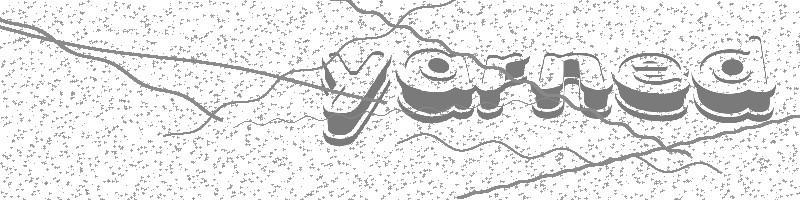a: (396, 46, 474, 127)
d: (690, 34, 776, 127)
e: (614, 51, 692, 123)
n: (533, 47, 615, 124)
r: (475, 49, 529, 121)
y: (315, 50, 394, 144)
